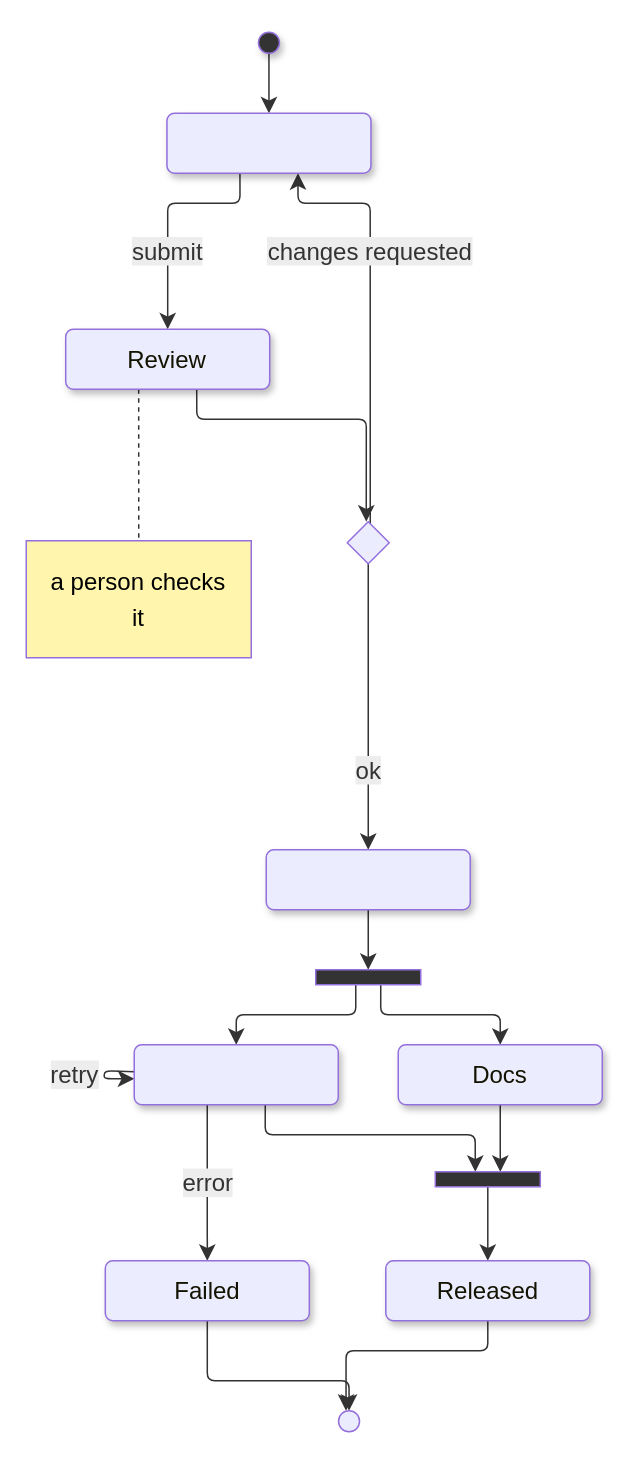
Image size: 638x1458. Some labels were removed from this diagram. The centre of each missing label's shape, as x and y in pixels:
"Approved" belongs at (369,881).
"Build" belongs at (237,1076).
"Draft" belongs at (269,145).
